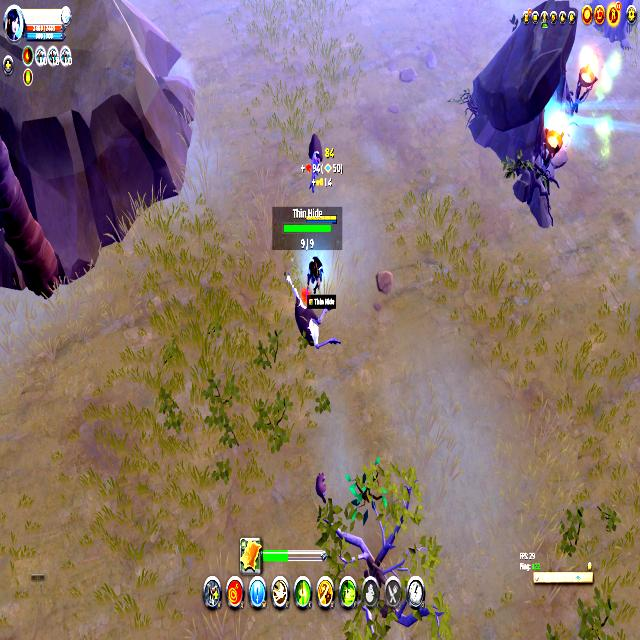mob: (287, 275, 340, 353)
ore: (305, 130, 325, 199)
red: (304, 251, 327, 307)
